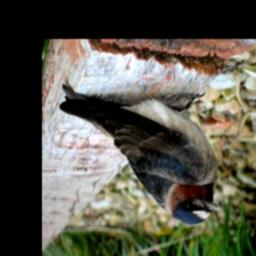Swallow: (56, 81, 224, 229)
